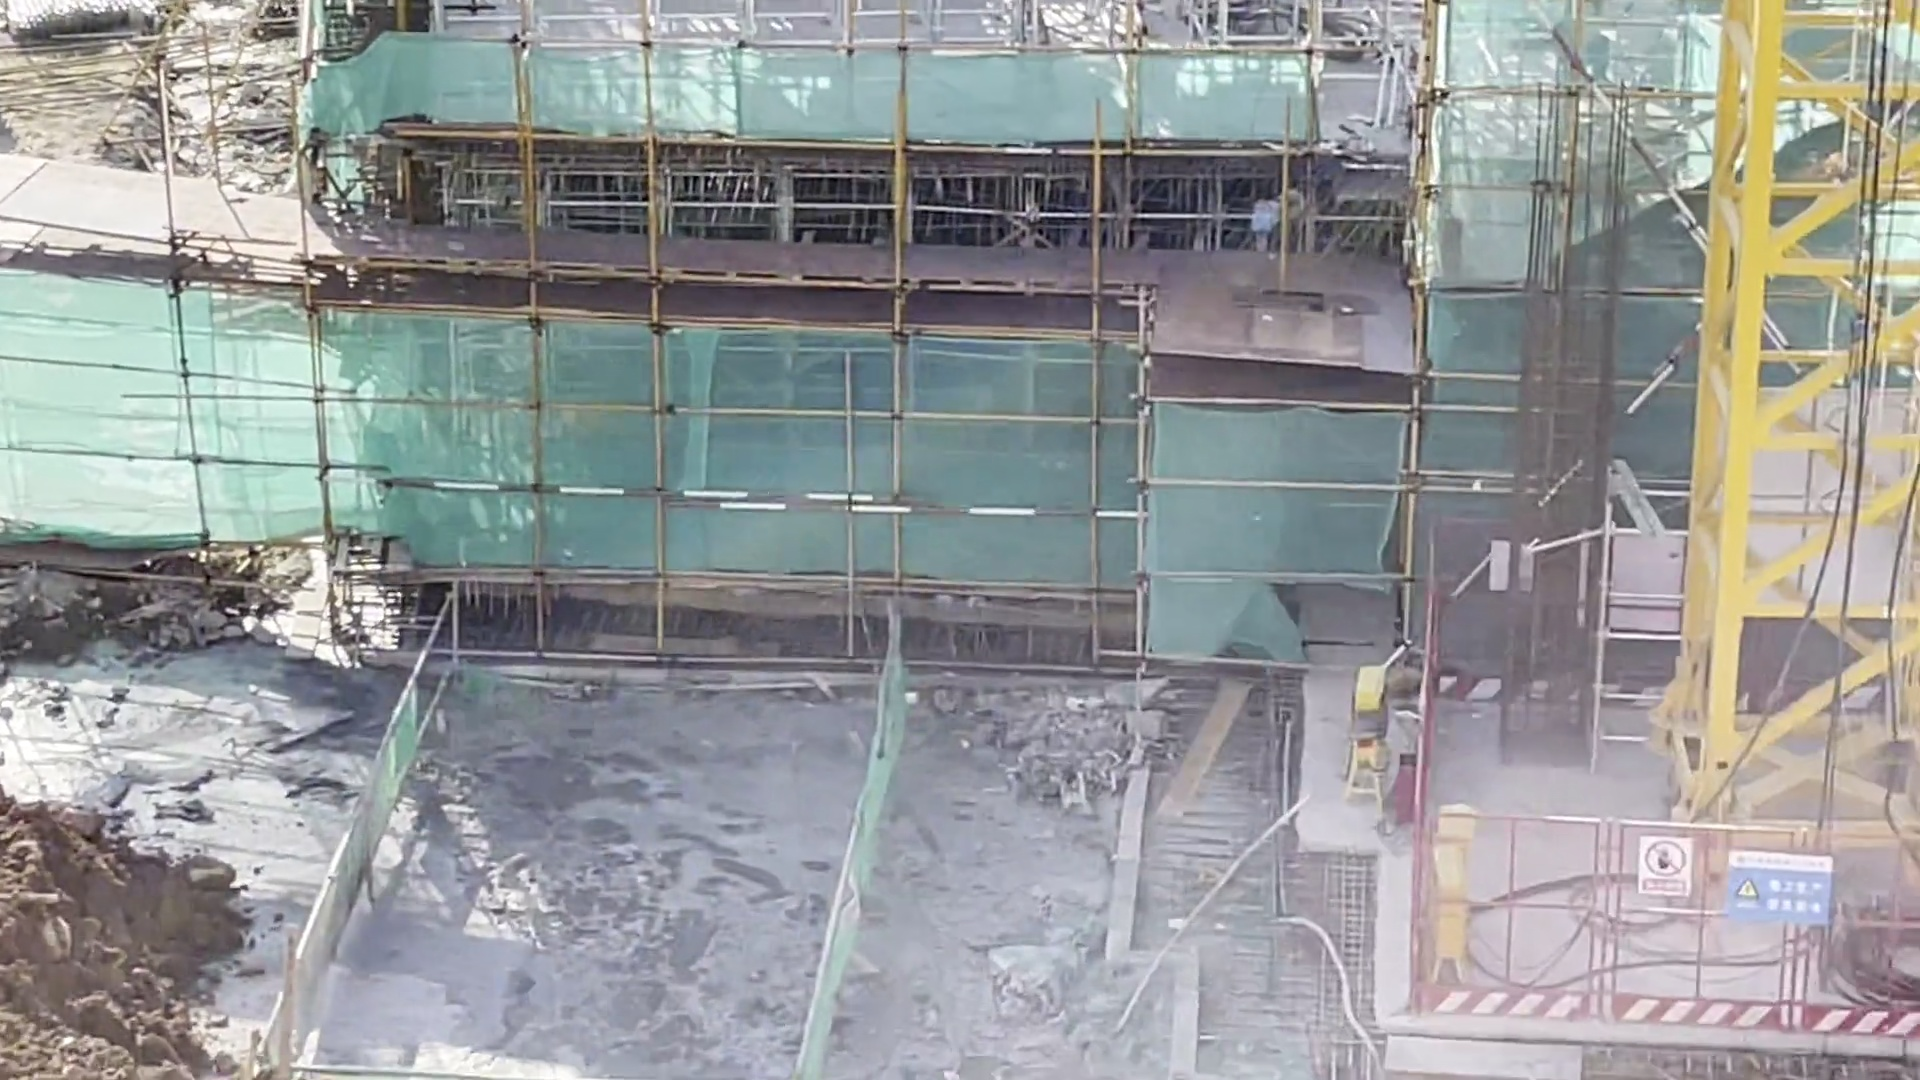ebox: (1432, 800, 1478, 989), (1341, 665, 1391, 808)
fence: (1497, 804, 1920, 1040)
scaffold: (1, 1, 158, 53)
slogan: (1735, 849, 1833, 930), (1639, 833, 1689, 899)
